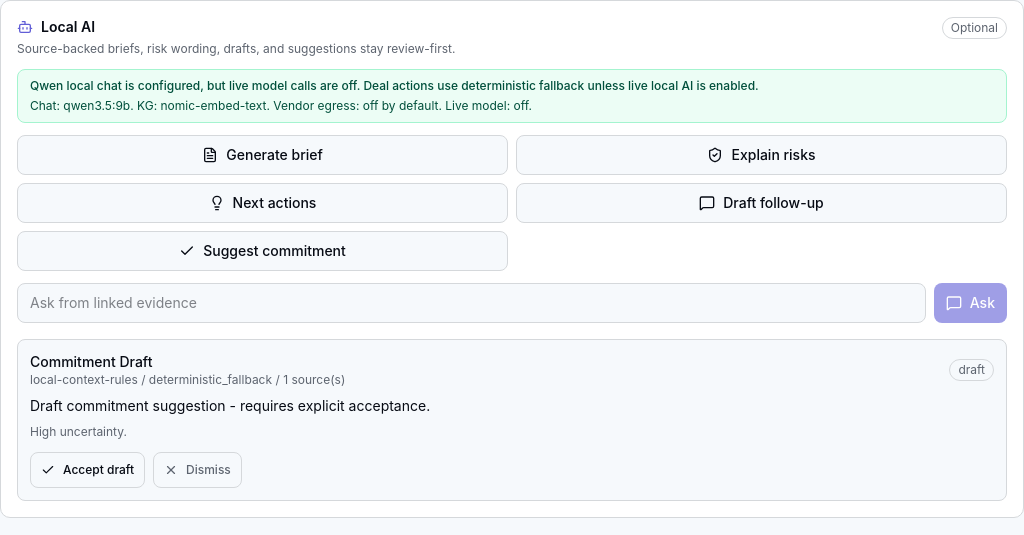
Scenario: DealLocalAiPanel › accepts and dismisses draft suggestions explicitly
Step 1. Click the button "Accept draft" → (88,470), box top-left (30, 452), bottom-right (145, 488)
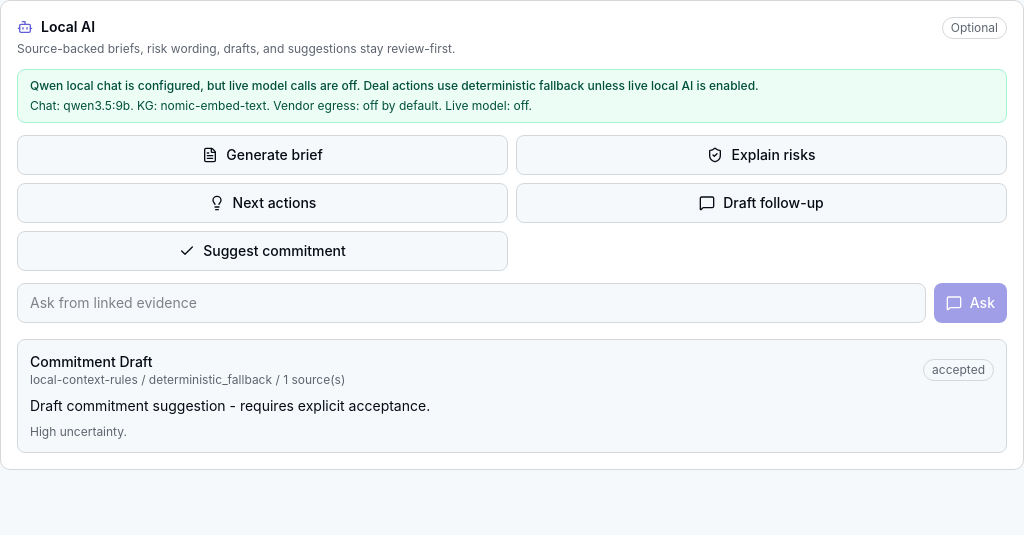
Expected: the text "accepted" is shown, top-left (923, 359), bottom-right (994, 381)
